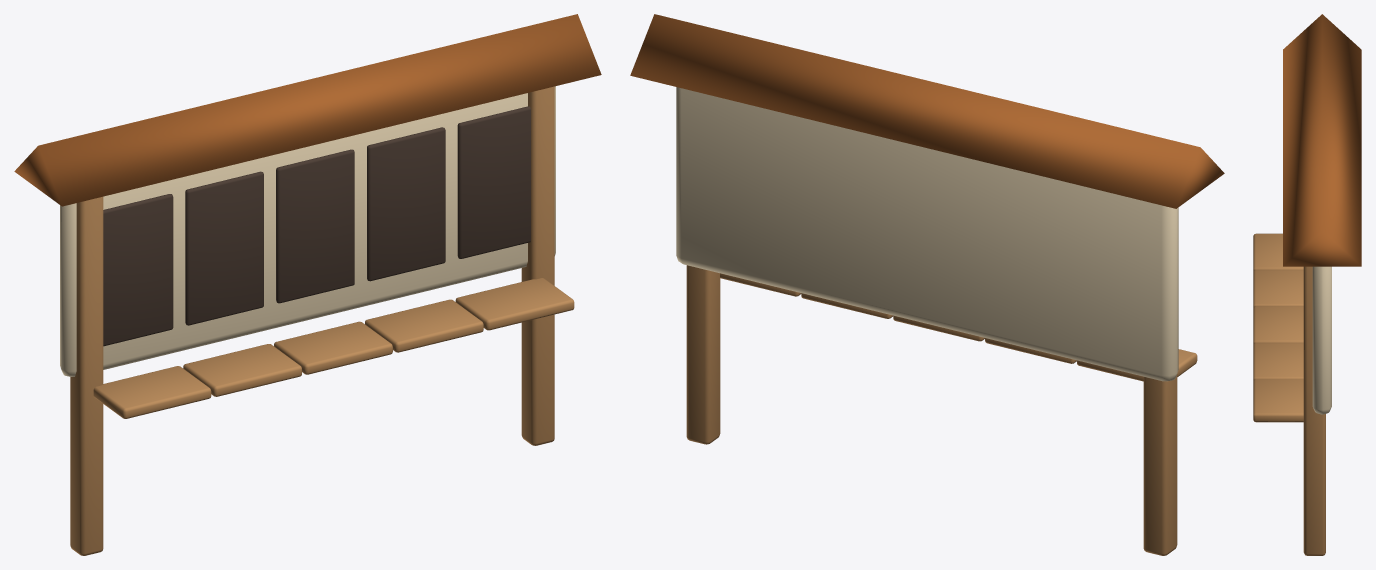
The model's file is festival-board.glb.
3 renders of one model, left to right at view 1: azimuth 30°, elevation 25°; view 2: azimuth 150°, elevation 25°; view 3: azimuth 270°, elevation 25°, orthographic. The views are drawn at different scales.
Visible parts, largest first — view 1: board; view 2: board; view 3: board.
Part boxes in pixels (x1,y1,x2,y2): board: (14, 14, 601, 555); board: (630, 14, 1224, 555); board: (1253, 14, 1361, 555).
Bounding box in the file's own units: 2.08 × 1.52 × 0.44.
